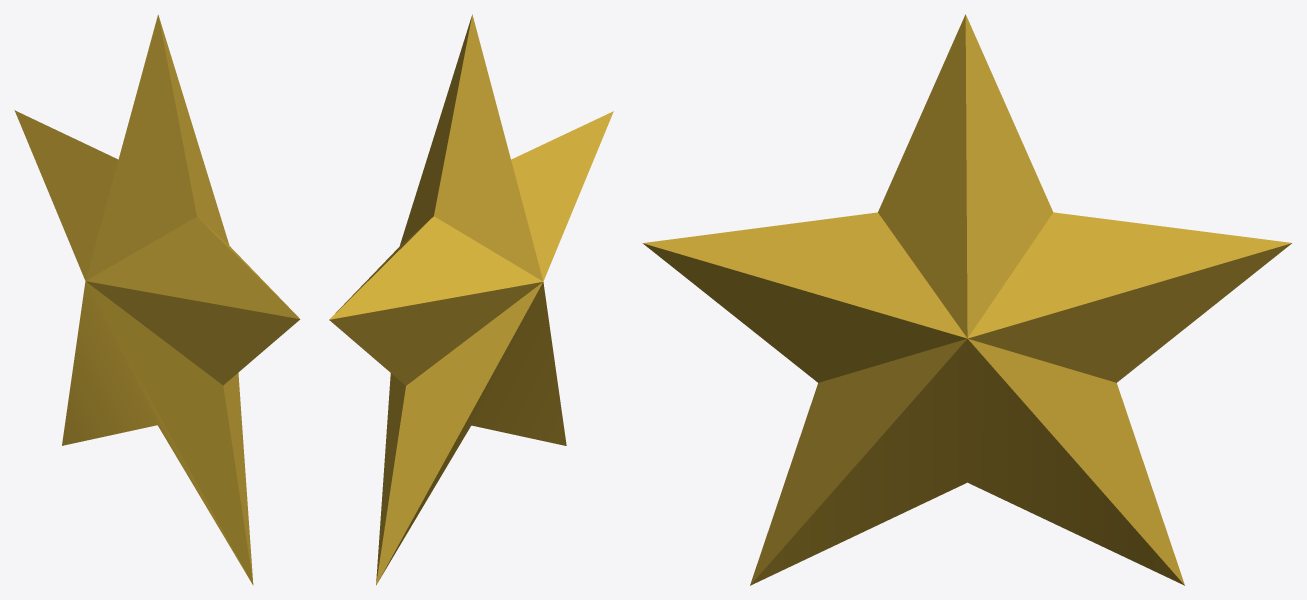
The model's file is Token.fbx.
3 renders of one model, left to right at view 1: azimuth 30°, elevation 25°; view 2: azimuth 150°, elevation 25°; view 3: azimuth 270°, elevation 25°, orthographic. The views are drawn at different scales.
Parts seen in each view (by area): view 1: Token; view 2: Token; view 3: Token.
Part boxes in pixels (x1,y1,x2,y2): Token: (14, 14, 300, 585); Token: (329, 14, 613, 585); Token: (642, 14, 1291, 585).
Bounding box in the file's own units: 60 × 200 × 206.
1 material, 1 textured.
